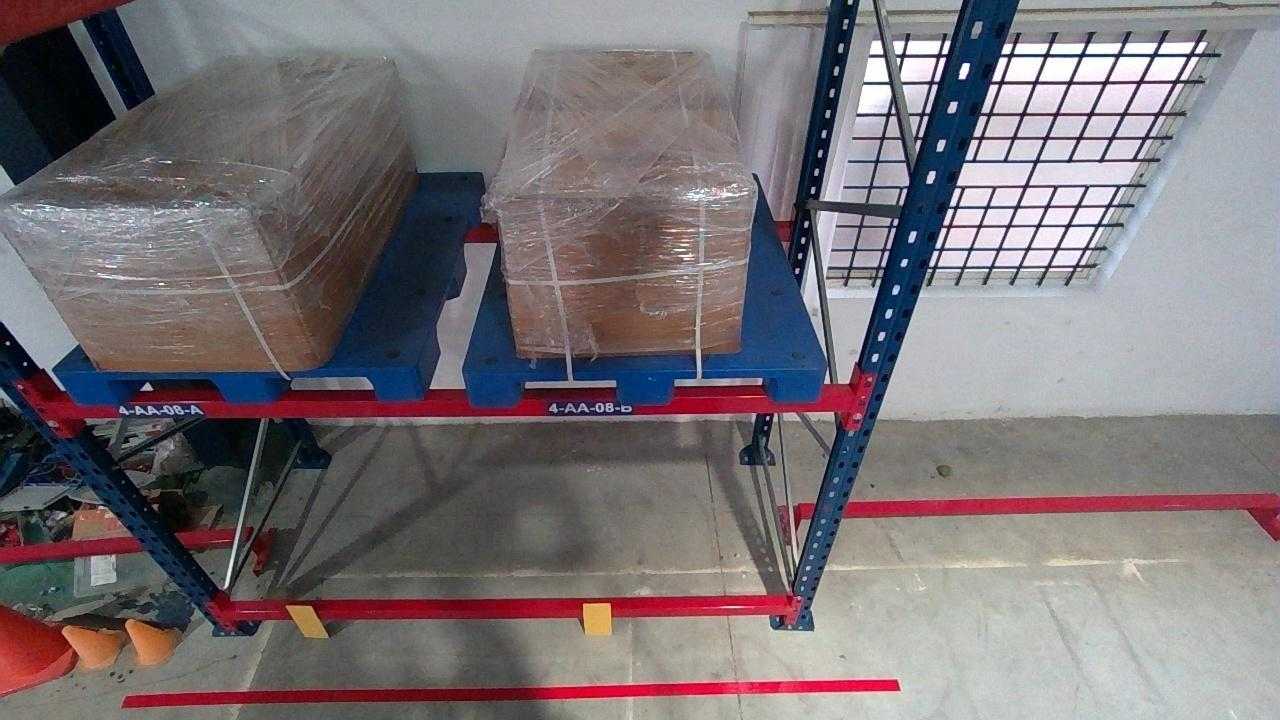h_rack: (46, 389, 862, 417), (223, 603, 784, 620)
orange_strip: (283, 604, 329, 637), (581, 602, 612, 635)
red_line: (117, 678, 903, 704)
small_pallet: (464, 368, 833, 405), (64, 368, 418, 403)
